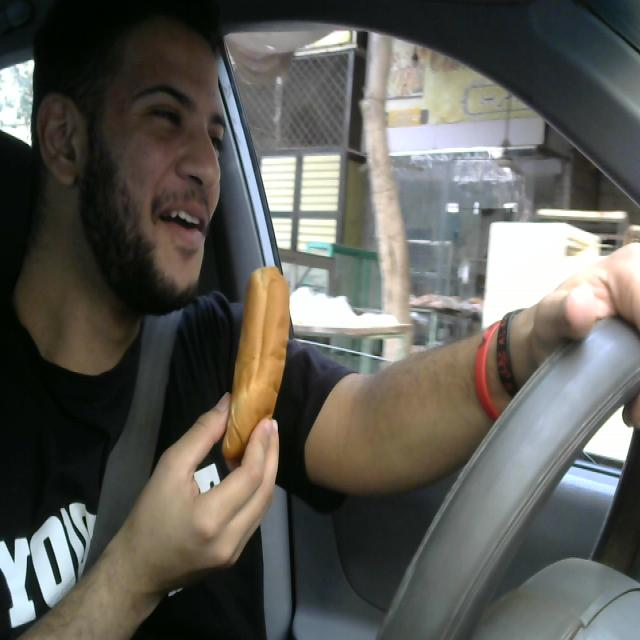eating: (215, 256, 293, 466)
